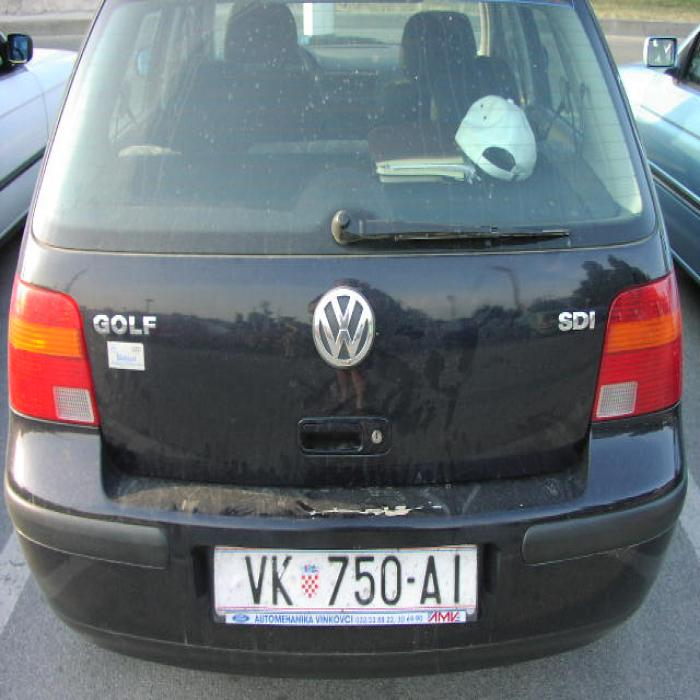number_plate: (214, 550, 473, 608)
